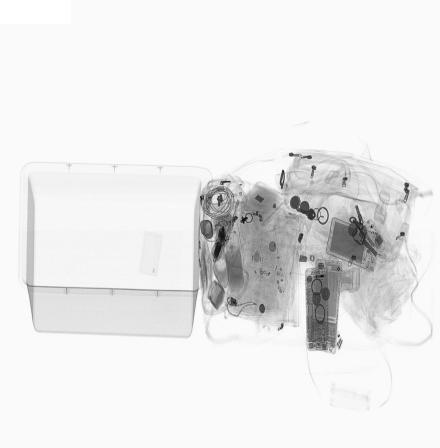Powerbank: (325, 215, 381, 273)
